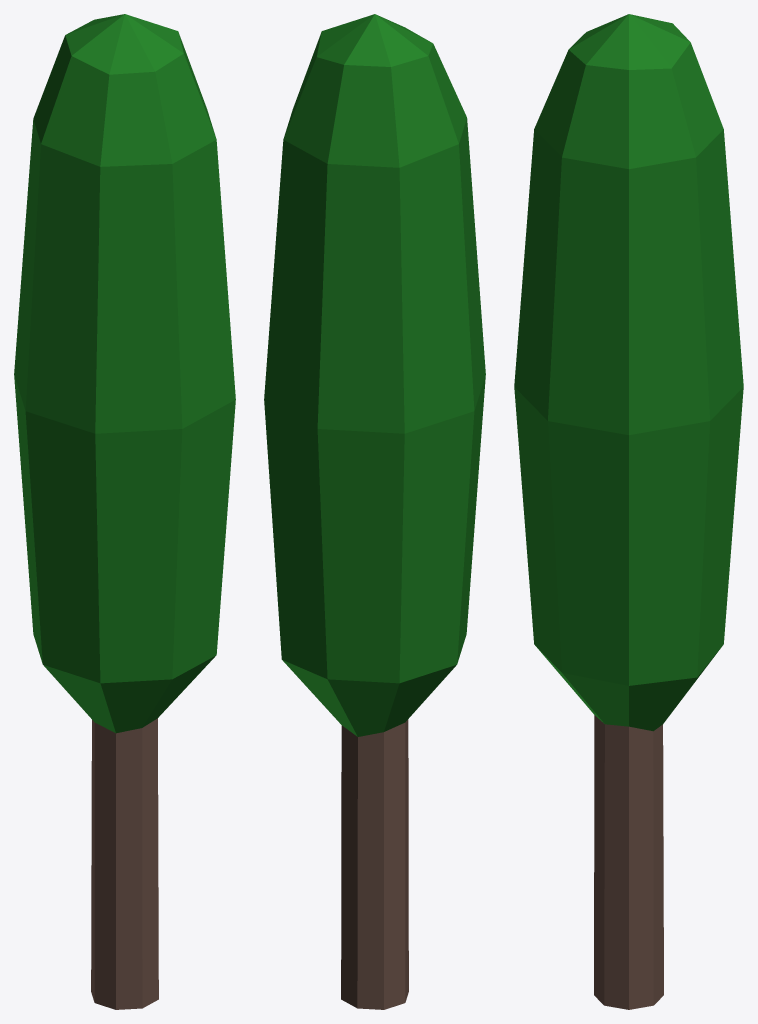
File: tree1.fbx
3 views of the same model, side by side, from view 1: azimuth 30°, elevation 25°; view 2: azimuth 150°, elevation 25°; view 3: azimuth 270°, elevation 25° (orthographic).
Parts seen in each view (by area): view 1: arbre1; view 2: arbre1; view 3: arbre1.
Part boxes in pixels (box(x1,y1,x2,y2)): arbre1: box(14, 14, 235, 1009); arbre1: box(264, 14, 485, 1009); arbre1: box(514, 14, 743, 1009).
Bounding box in the file's own units: 54.1 × 255 × 54.1.
